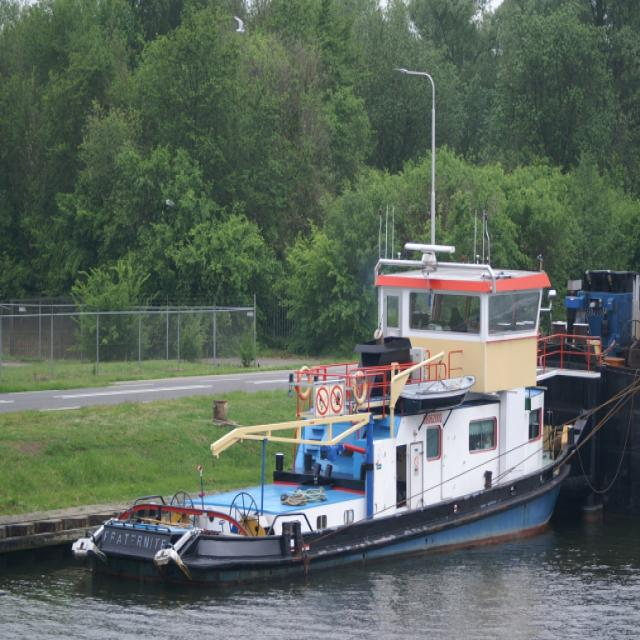tugboat: (68, 204, 615, 608)
